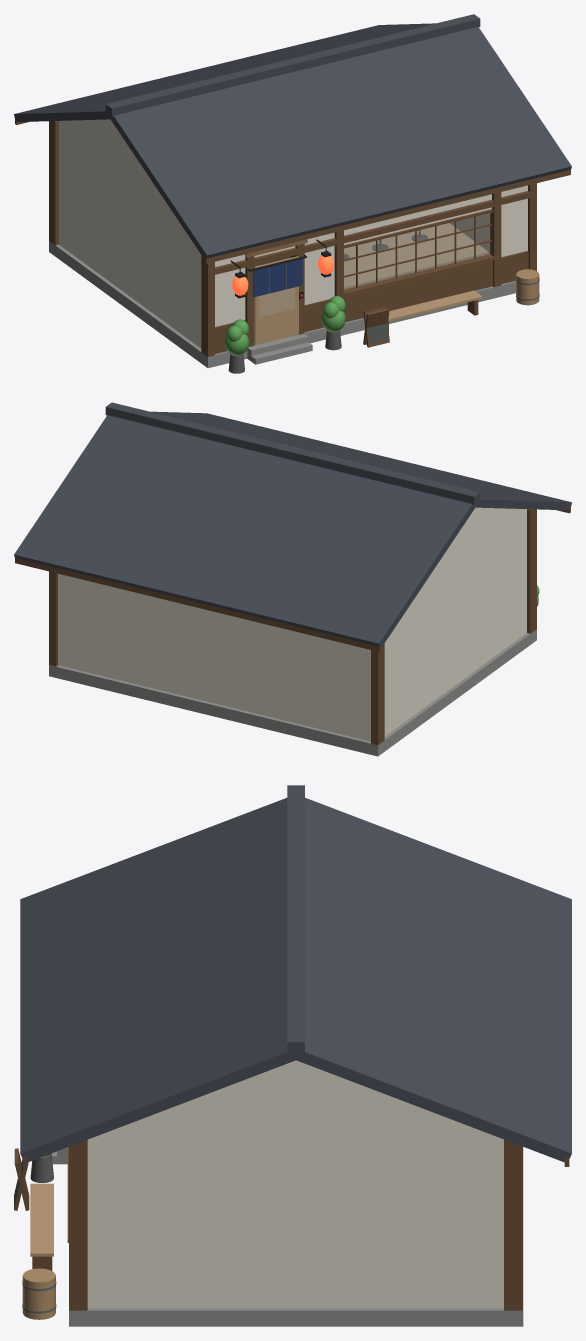
The model's file is house1_ramen.fbx.
3 views of the same model, one above another, from view 1: azimuth 30°, elevation 25°; view 2: azimuth 150°, elevation 25°; view 3: azimuth 270°, elevation 25° (orthographic). The views are drawn at different scales.
Parts seen in each view (by area): view 1: roof.004, wall.023, roof.003, roof.005, window.004, wall.012, floor, base, beam.004, door, roof.001, wall.005 (+20 smaller); view 2: roof.003, wall.014, wall.023, base, roof.004, roof.005, roof.002, post.001, post, post.007; view 3: wall.024, roof.004, roof.003, base, roof.005, post.007, post.006, bench.003, barrel.003.
Part boxes in pixels (left/top/right/bottom): roof.004: left=110, top=27, right=571, bottom=259; wall.023: left=59, top=119, right=216, bottom=348; roof.003: left=14, top=23, right=435, bottom=121; roof.005: left=105, top=14, right=480, bottom=116; window.004: left=344, top=213, right=489, bottom=289; wall.012: left=304, top=251, right=528, bottom=331; floor: left=254, top=223, right=487, bottom=339; base: left=49, top=241, right=516, bottom=368; beam.004: left=204, top=191, right=529, bottom=276; door: left=254, top=256, right=298, bottom=344; roof.001: left=204, top=169, right=570, bottom=263; wall.005: left=501, top=185, right=527, bottom=257; roof.003: left=14, top=415, right=475, bottom=648; wall.014: left=61, top=574, right=369, bottom=740; wall.023: left=369, top=507, right=526, bottom=741; base: left=49, top=629, right=536, bottom=756; roof.004: left=150, top=411, right=571, bottom=510; roof.005: left=105, top=402, right=480, bottom=504; roof.002: left=15, top=558, right=381, bottom=651; post.001: left=371, top=643, right=384, bottom=745; post: left=527, top=509, right=536, bottom=633; post.007: left=49, top=571, right=57, bottom=666; wall.024: left=87, top=1060, right=503, bottom=1307; roof.004: left=20, top=798, right=297, bottom=1162; roof.003: left=294, top=798, right=571, bottom=1162; base: left=69, top=1147, right=523, bottom=1326; roof.005: left=287, top=785, right=304, bottom=1053; post.007: left=504, top=1139, right=522, bottom=1310; post.006: left=69, top=1140, right=87, bottom=1310; bench.003: left=30, top=1183, right=53, bottom=1256; barrel.003: left=22, top=1268, right=55, bottom=1319.
Bounding box in the file's own units: 10.3 × 5.58 × 9.45.
